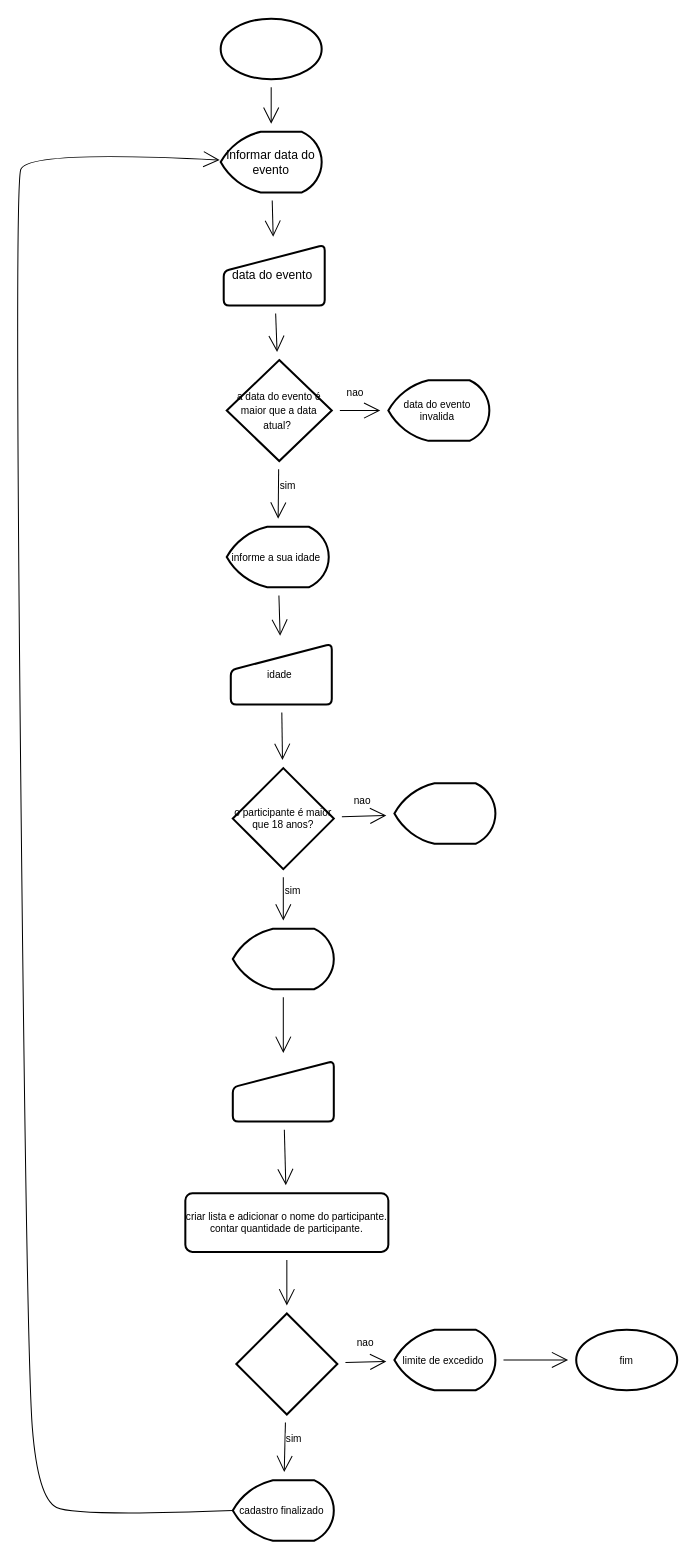
This 696x1558 diagram has some shape labels left out. The shapes that lost their labels are listed below. From the top down, each one's centre as x and y in pixels, then its label:
At point 270,48: "inicio".
At point 444,813: "cadastro nao permitido pela idade".
At point 282,958: "digite seu nome".
At point 282,1090: "nome do participante".
At point 286,1363: "a quantidade de participante é menor que 100?".
